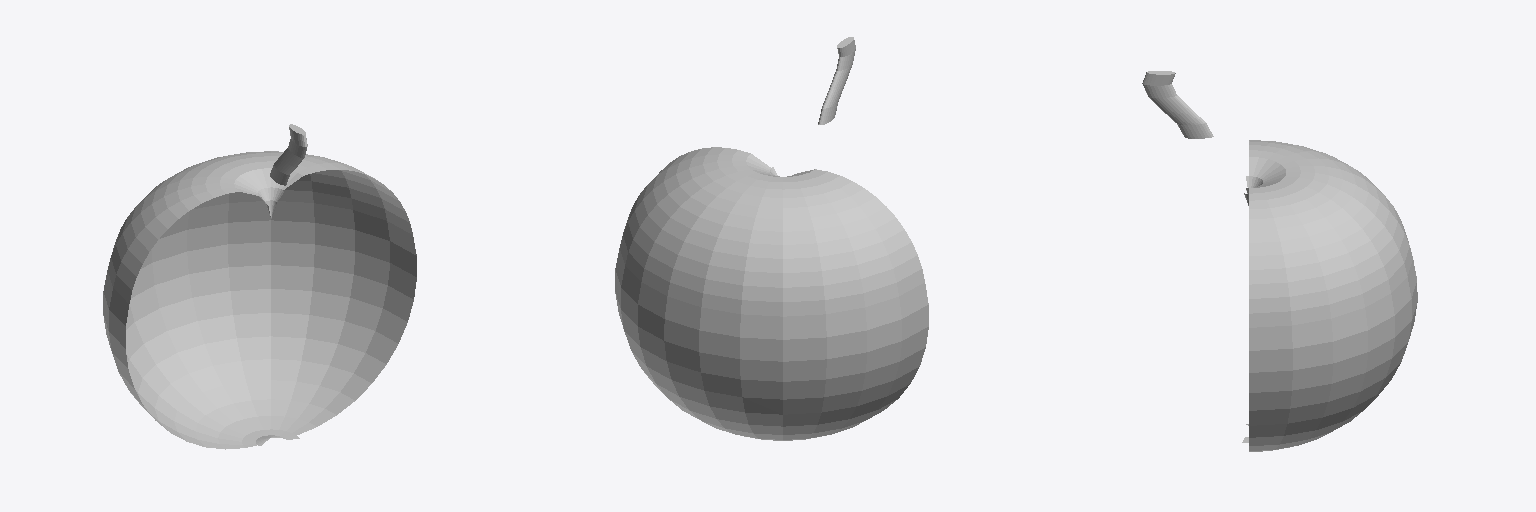
File: melonlado_a.obj
3 renders of one model, left to right at view 1: azimuth 30°, elevation 25°; view 2: azimuth 150°, elevation 25°; view 3: azimuth 270°, elevation 25°, orthographic.
Visible parts, largest first — view 1: Mesh2 apple1 apple1_1 _Apples1 Model, Mesh1 stem1 apple1_1 _Apples1 Model; view 2: Mesh2 apple1 apple1_1 _Apples1 Model, Mesh1 stem1 apple1_1 _Apples1 Model; view 3: Mesh2 apple1 apple1_1 _Apples1 Model, Mesh1 stem1 apple1_1 _Apples1 Model.
Boxes of the visible parts, x1=… form: Mesh2 apple1 apple1_1 _Apples1 Model: x1=103, y1=151, x2=416, y2=449; Mesh1 stem1 apple1_1 _Apples1 Model: x1=270, y1=124, x2=307, y2=185; Mesh2 apple1 apple1_1 _Apples1 Model: x1=615, y1=147, x2=928, y2=440; Mesh1 stem1 apple1_1 _Apples1 Model: x1=818, y1=37, x2=855, y2=124; Mesh2 apple1 apple1_1 _Apples1 Model: x1=1242, y1=140, x2=1417, y2=451; Mesh1 stem1 apple1_1 _Apples1 Model: x1=1142, y1=71, x2=1213, y2=138.
Size of the model in its own units: 0.0598 by 0.0686 by 0.0489.